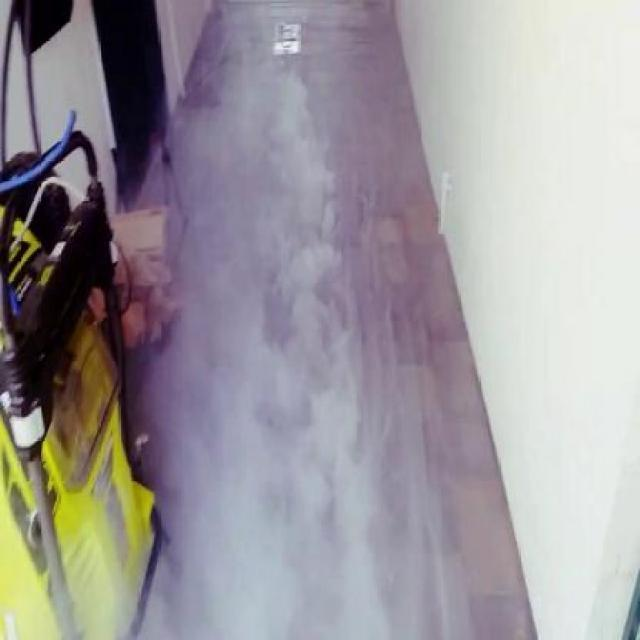smoke: (186, 284, 398, 640)
